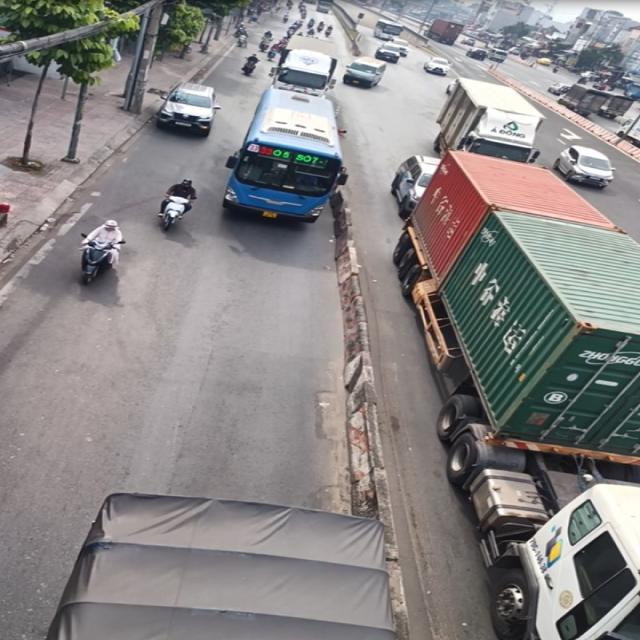bus: (232, 84, 342, 234)
car: (154, 80, 222, 134), (556, 140, 617, 179)
motor: (69, 217, 149, 287), (151, 168, 208, 237)
